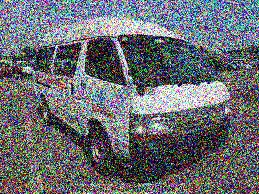van: (29, 12, 231, 176)
